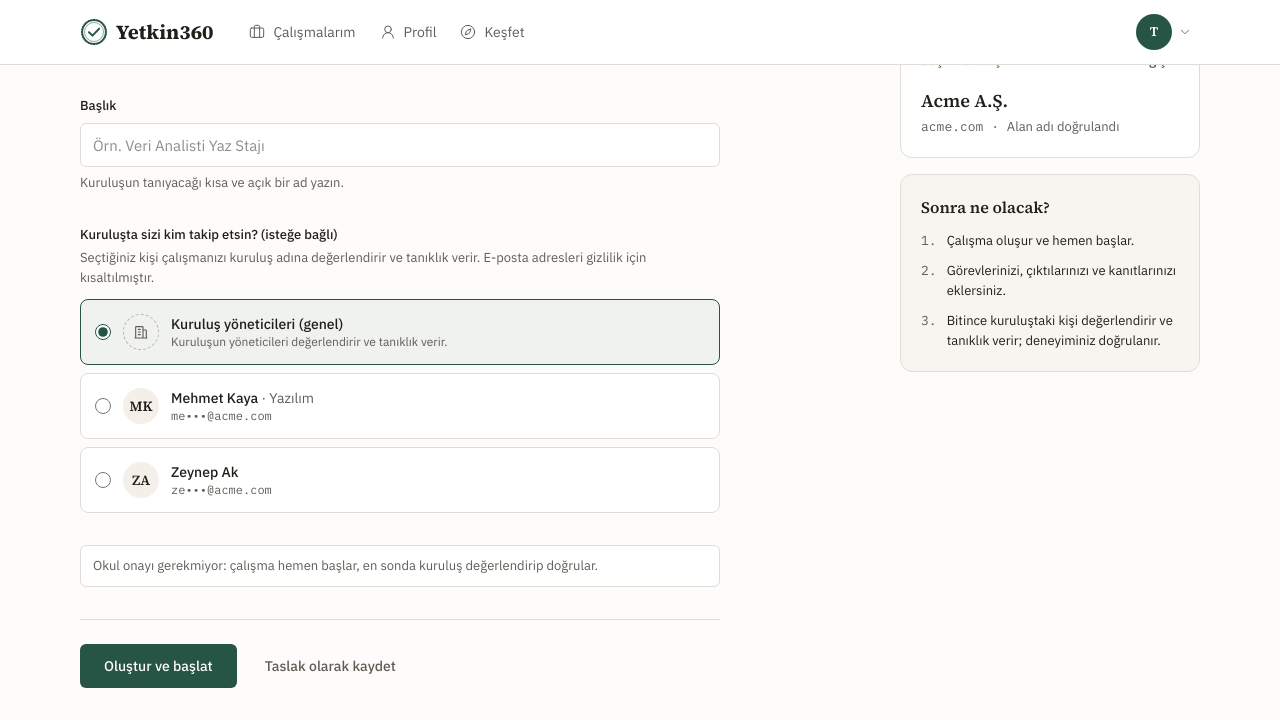
Test case: CalismaOlusturPage (/calismalar/olustur) › SPRINT D1: onaylayıcı seçimi › onaylayıcı seçiliyken 404 gelirse onaylayıcının artık uygun olmadığı söylenir
(page scrolled)
Step 1. Click the radio button labelled "ZA Zeynep Ak ze•••@acme.com" → (103, 480), box left=95, top=472, right=111, bottom=488
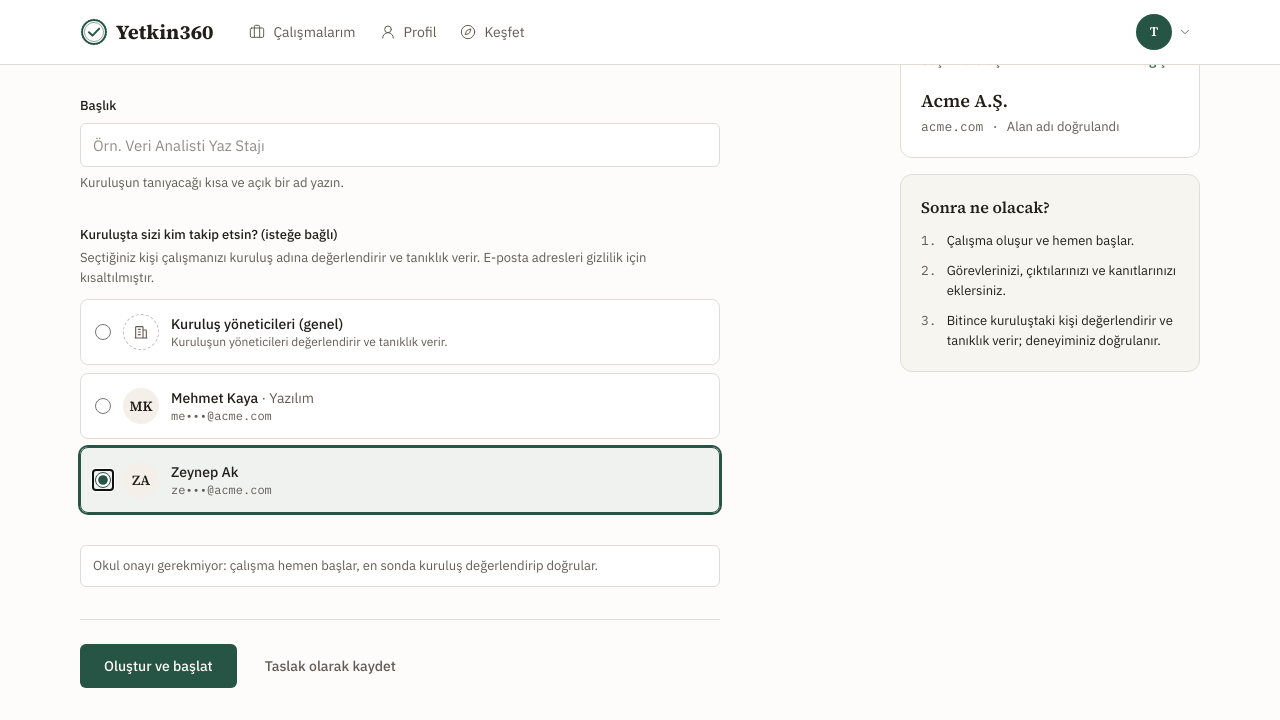
Step 2. Type "x" into the field labelled "Başlık" → (400, 145), box left=80, top=123, right=720, bottom=167
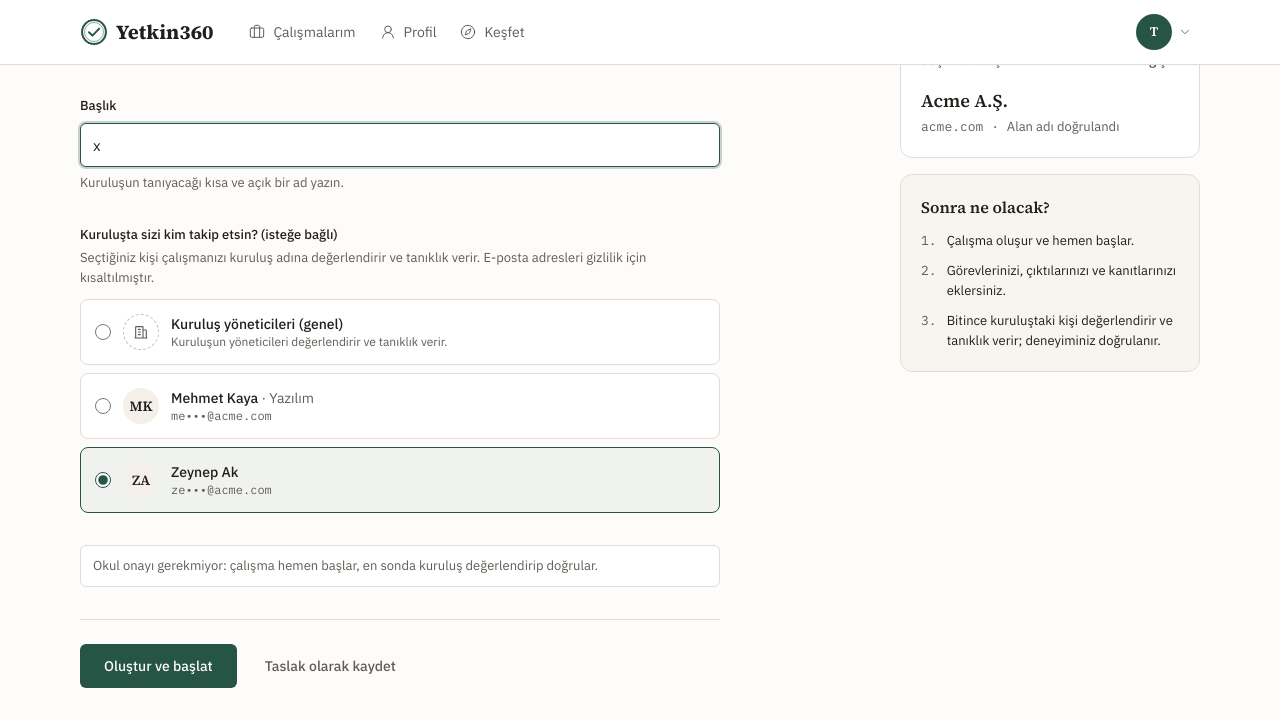
Step 3. Click the button "Oluştur ve başlat" → (158, 666), box left=80, top=644, right=237, bottom=688
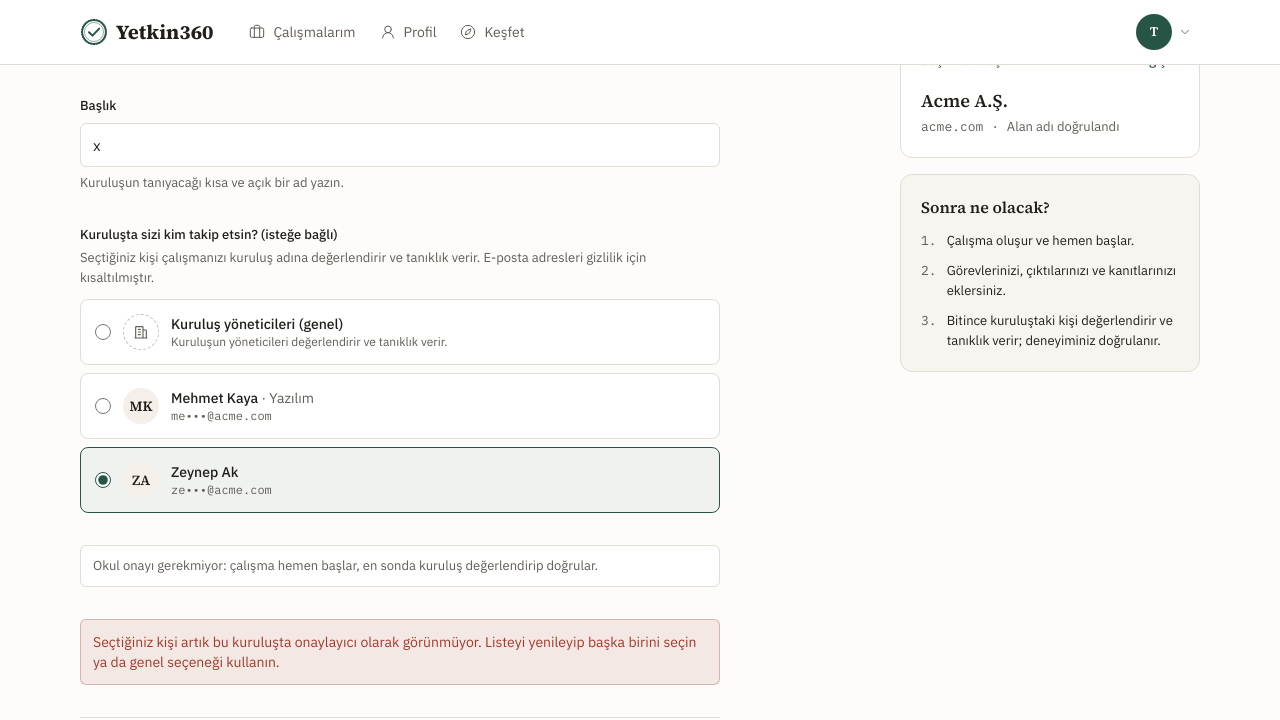
Result: the text "Seçtiğiniz kişi artık bu kuruluşta onaylayıcı olarak görünmüyor. Listeyi yenileyip başka birini seçin ya da genel seçene" is shown at left=93, top=632, right=696, bottom=670
